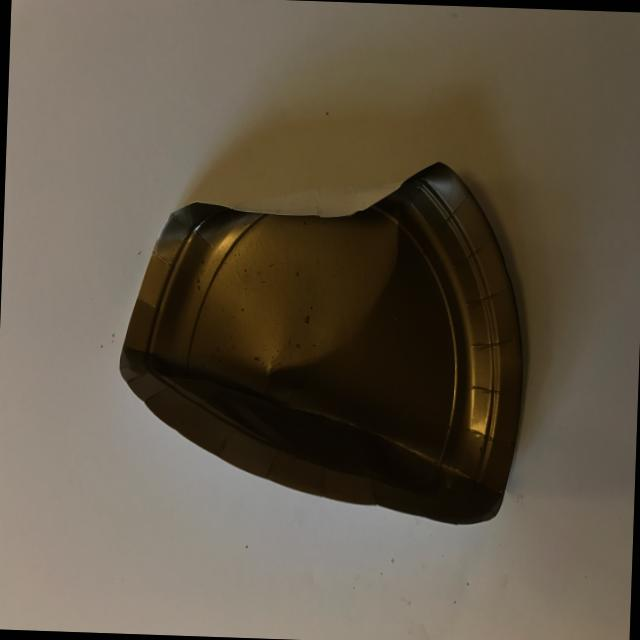Metal: (101, 152, 550, 567)
